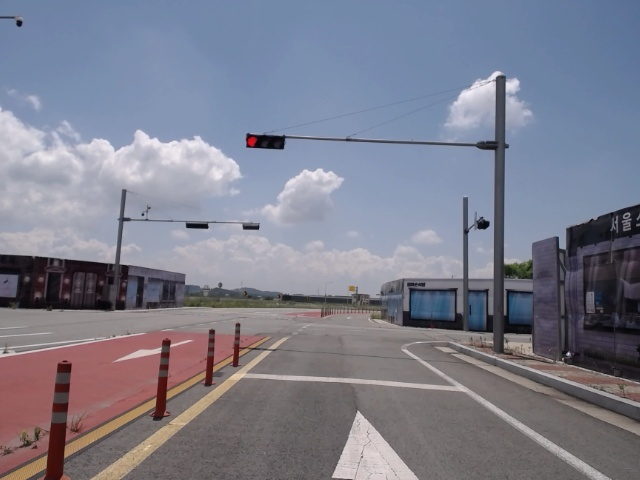red_3: (245, 135, 285, 149)
